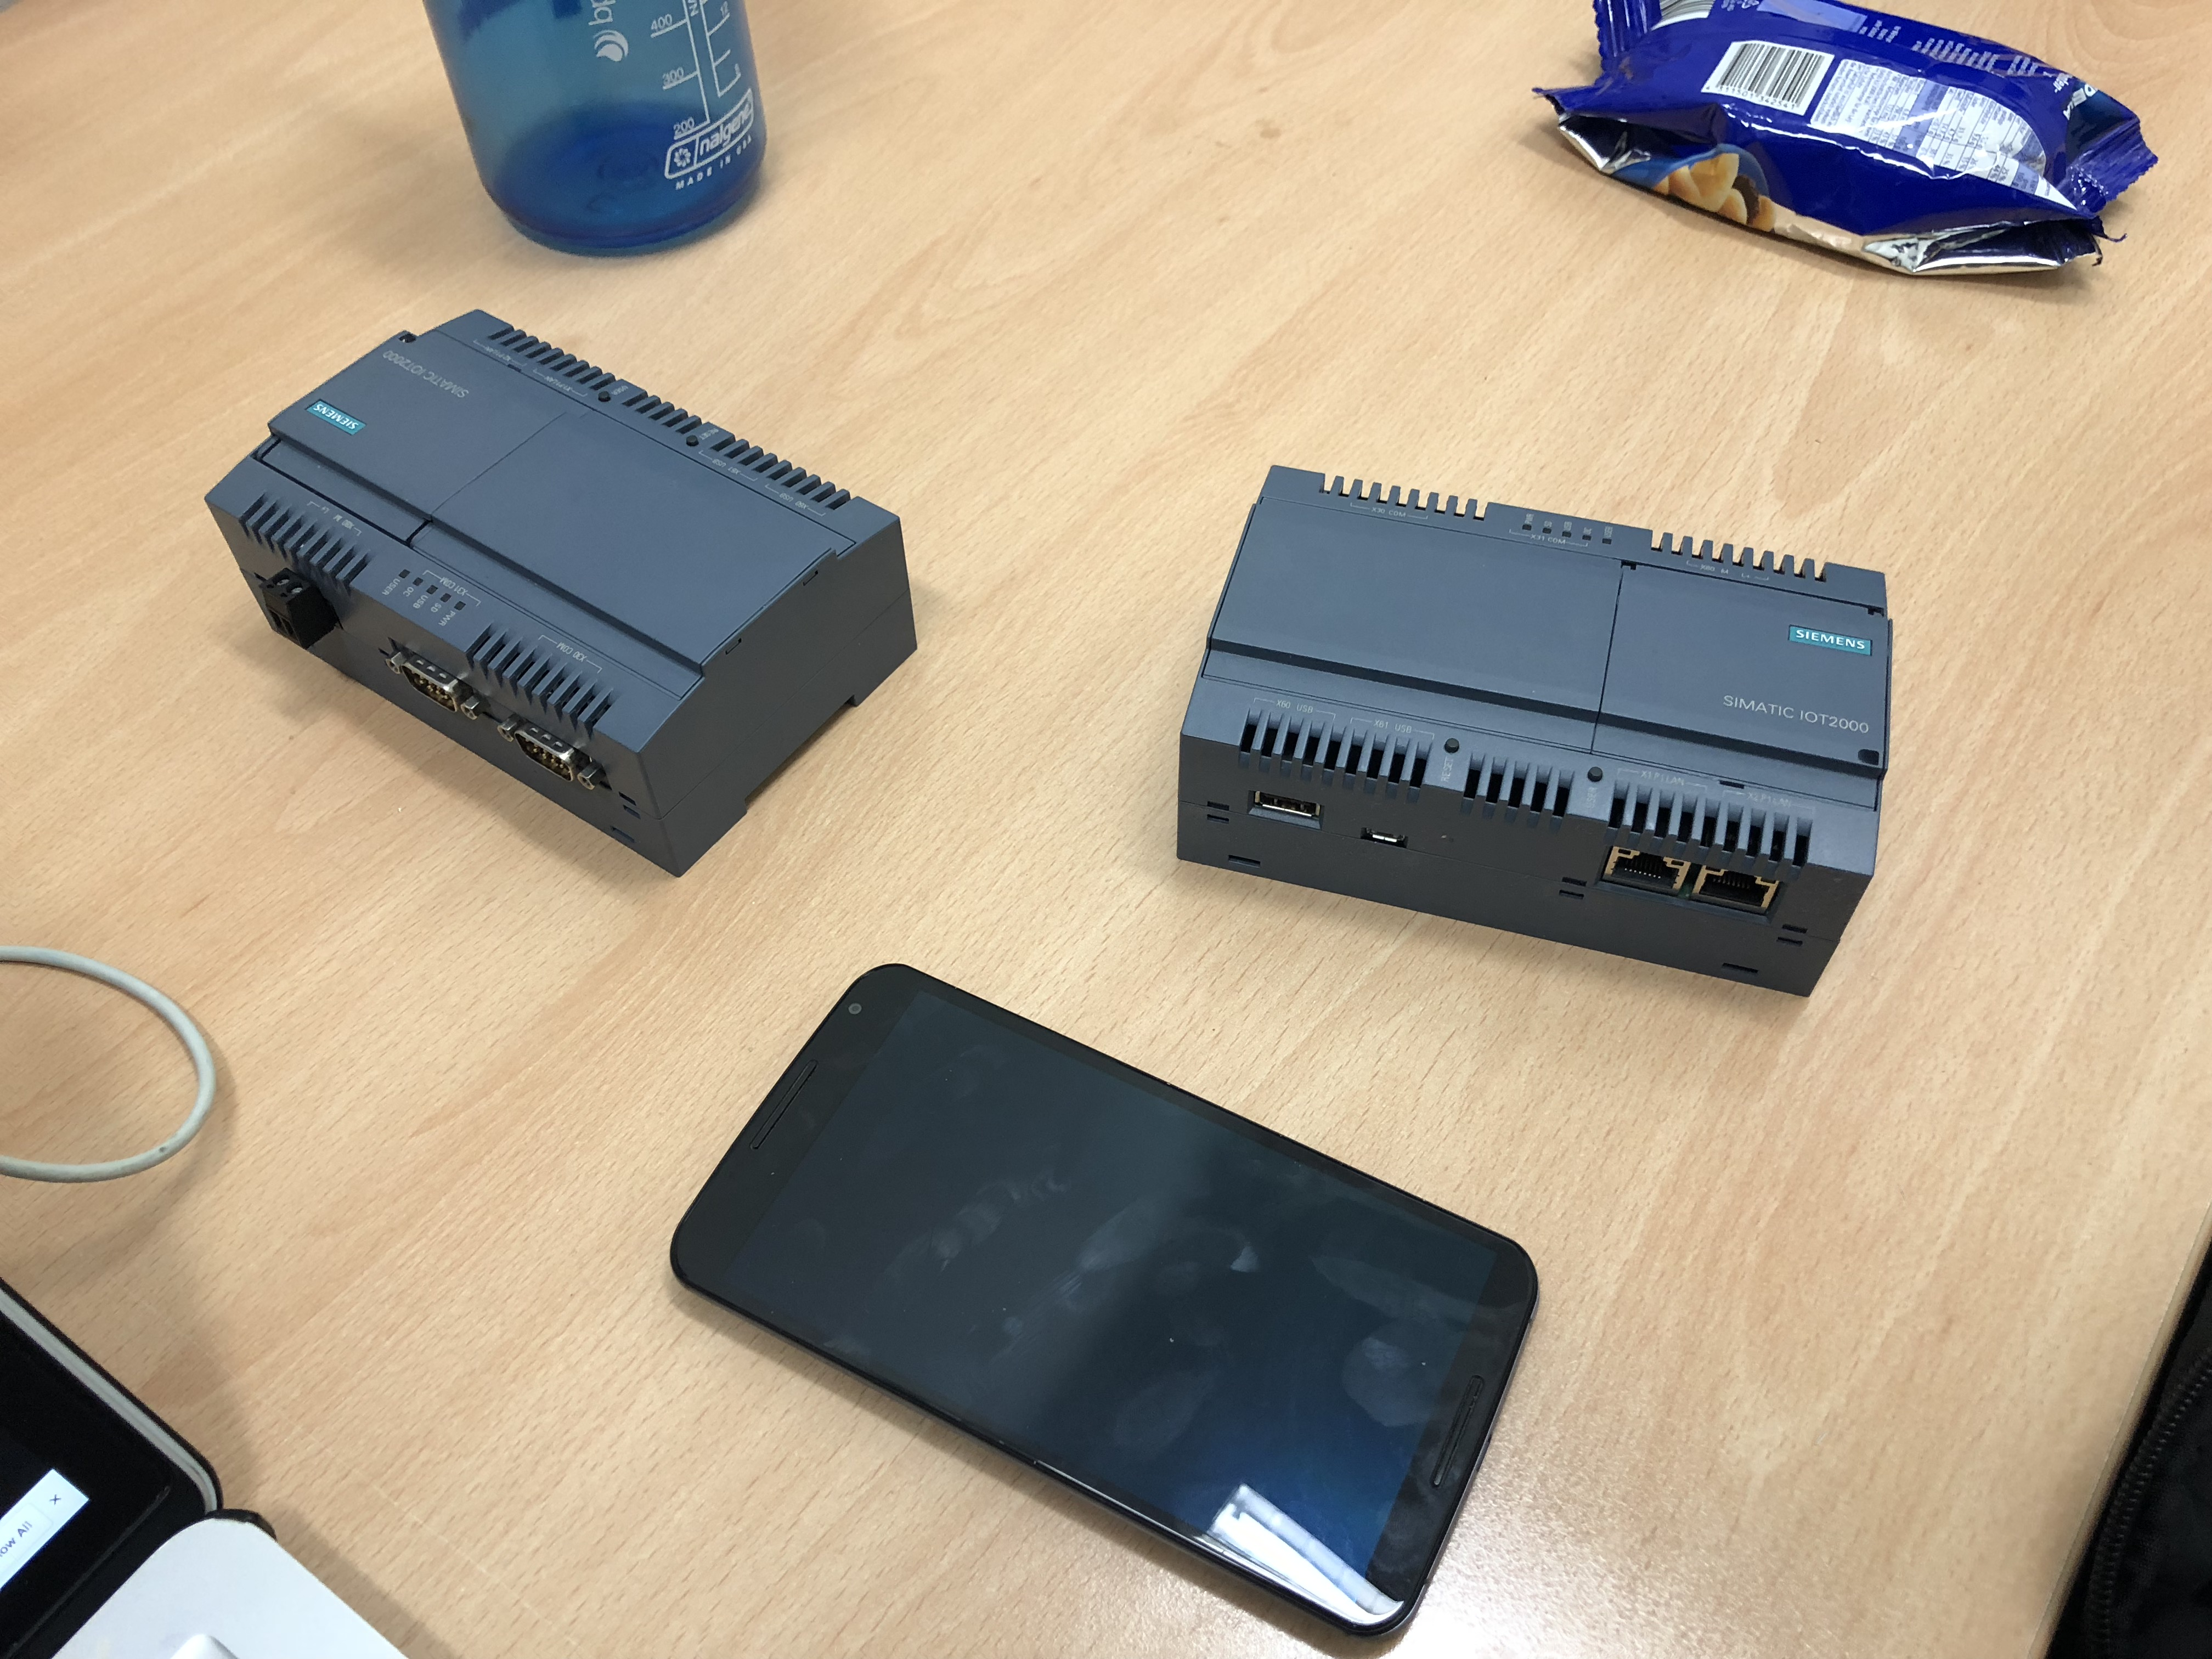device: (204, 308, 920, 878), (1176, 464, 1893, 999)
